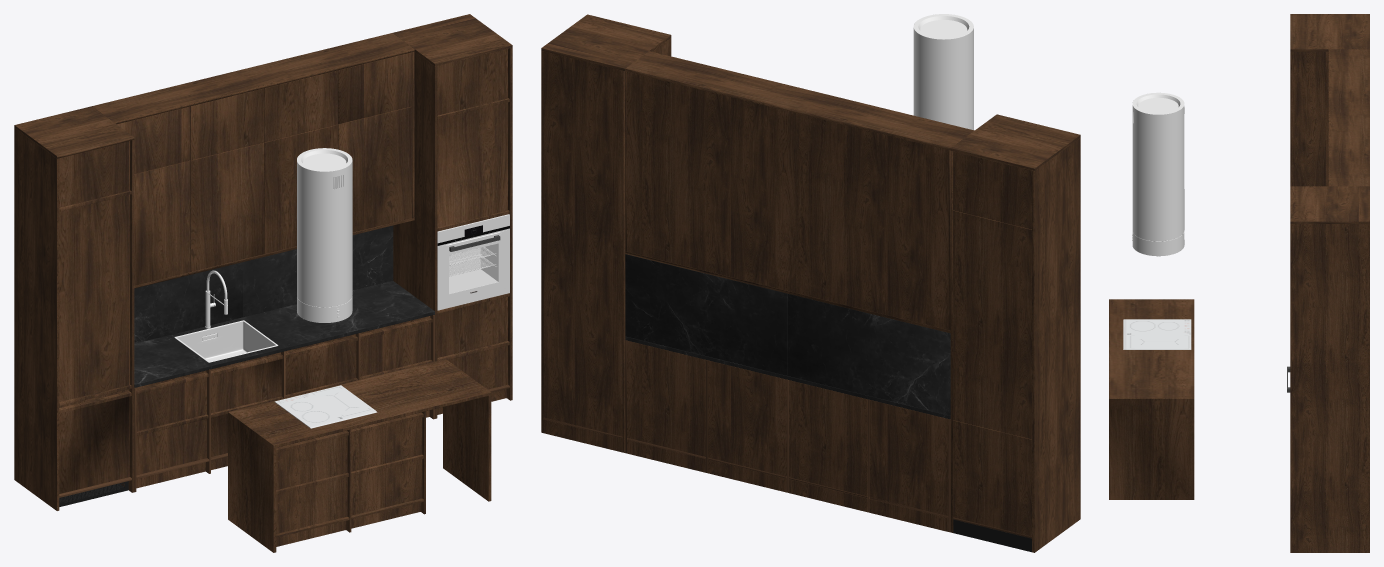
Rendered from kitchen-2.glb.
3 renders of one model, left to right at view 1: azimuth 30°, elevation 25°; view 2: azimuth 150°, elevation 25°; view 3: azimuth 270°, elevation 25°, orthographic. The views are drawn at different scales.
Visible parts, largest first — view 1: Kitchen cabinet; view 2: Kitchen cabinet; view 3: Kitchen cabinet.
Part boxes in pixels (x1,y1,x2,y2): Kitchen cabinet: (14,14,512,552); Kitchen cabinet: (541,14,1080,552); Kitchen cabinet: (1109,14,1369,552).
Size of the model in its own units: 3.76 by 2.81 by 2.
14 materials, 13 textured.
